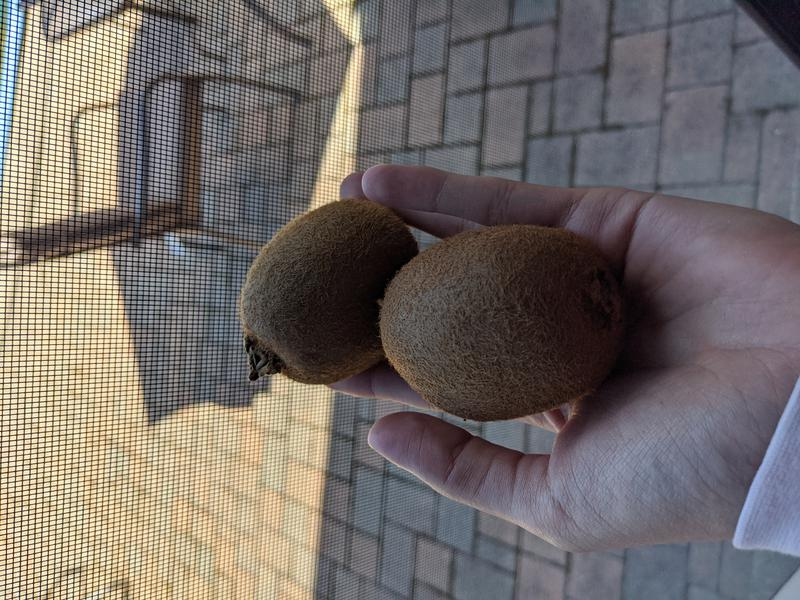kiwi: (377, 223, 627, 421), (238, 197, 421, 385)
